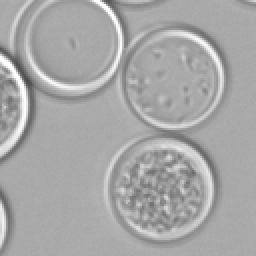picoshell: (104, 128, 218, 244), (120, 24, 226, 130), (10, 0, 126, 96), (0, 50, 34, 160), (0, 190, 10, 252), (108, 0, 164, 6), (238, 0, 254, 6)
